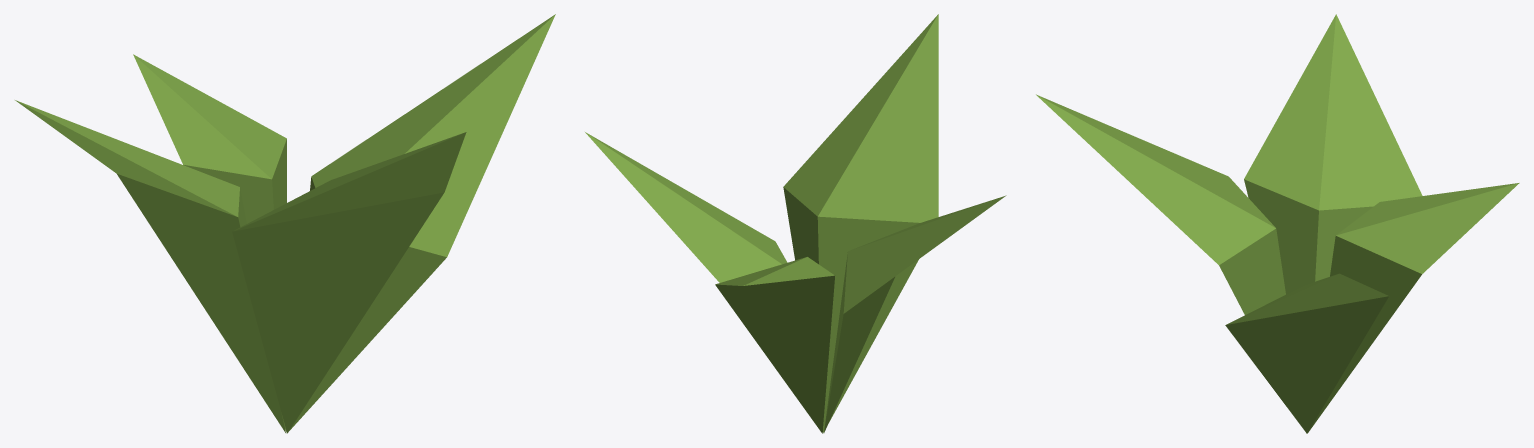
Rendered from TB_Env_Grass_Med_B.FBX.
3 renders of one model, left to right at view 1: azimuth 30°, elevation 25°; view 2: azimuth 150°, elevation 25°; view 3: azimuth 270°, elevation 25°, orthographic. The views are drawn at different scales.
Parts seen in each view (by area): view 1: TB_Env_Grass_Med_B; view 2: TB_Env_Grass_Med_B; view 3: TB_Env_Grass_Med_B.
Part boxes in pixels (bbox=[...]): TB_Env_Grass_Med_B: bbox=[15, 14, 555, 433]; TB_Env_Grass_Med_B: bbox=[585, 14, 1006, 433]; TB_Env_Grass_Med_B: bbox=[1036, 14, 1519, 433].
Bounding box in the file's own units: 1.06 × 0.7797 × 0.9906.
